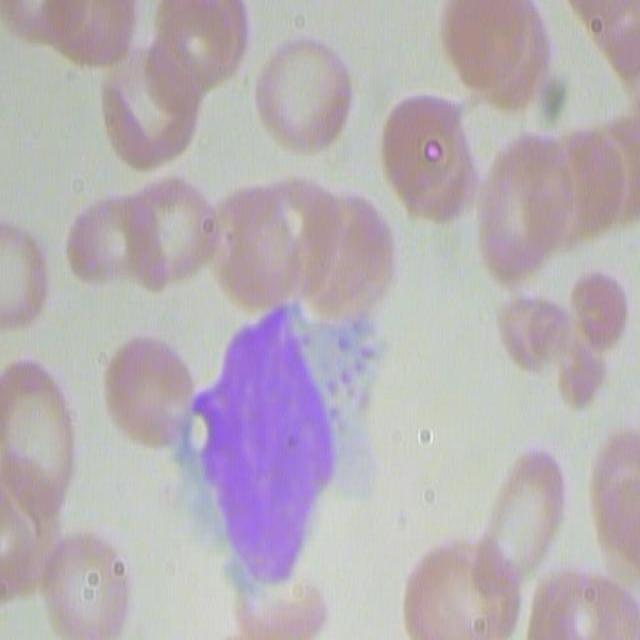RBC: (288, 174, 402, 326), (199, 165, 321, 305), (478, 122, 575, 291), (502, 279, 624, 407), (382, 89, 482, 229), (475, 441, 574, 578), (104, 32, 202, 170), (396, 532, 520, 638), (443, 2, 558, 116), (0, 350, 80, 511), (249, 27, 351, 152), (129, 170, 220, 290), (102, 328, 194, 446), (1, 0, 149, 72), (38, 528, 134, 638), (149, 0, 254, 89), (553, 130, 626, 247), (587, 428, 640, 570), (528, 572, 636, 640), (0, 211, 49, 337), (586, 0, 640, 95), (236, 587, 330, 640)
WBC: (204, 315, 340, 587)
